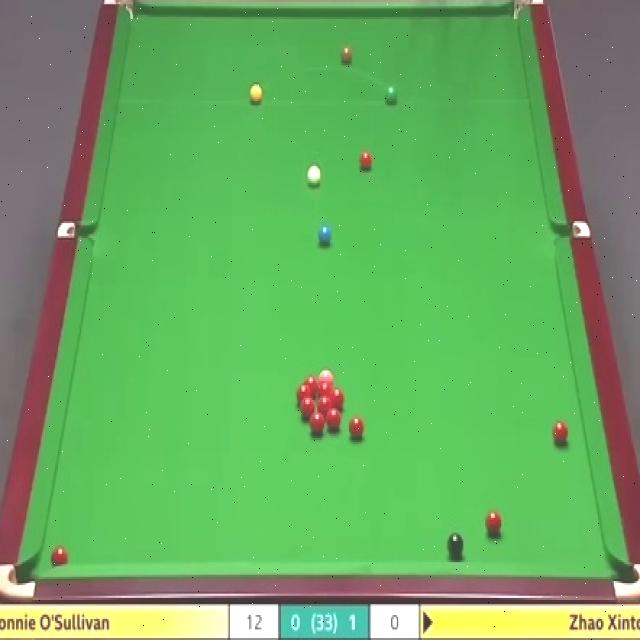black-ball: (446, 532, 464, 558)
blue-ball: (317, 225, 332, 248)
brown-ball: (341, 46, 354, 62)
green-ball: (384, 84, 399, 104)
pink-ball: (319, 370, 334, 380)
red-ball: (486, 510, 502, 534), (326, 407, 342, 430), (553, 421, 568, 443), (50, 547, 67, 566), (350, 416, 364, 438), (300, 398, 314, 420), (332, 388, 346, 410), (310, 412, 324, 433), (360, 149, 372, 172), (304, 374, 318, 392), (294, 385, 310, 399), (319, 379, 332, 395), (318, 398, 332, 409)
white-ball: (306, 166, 322, 188)
yellow-ball: (249, 85, 262, 105)
